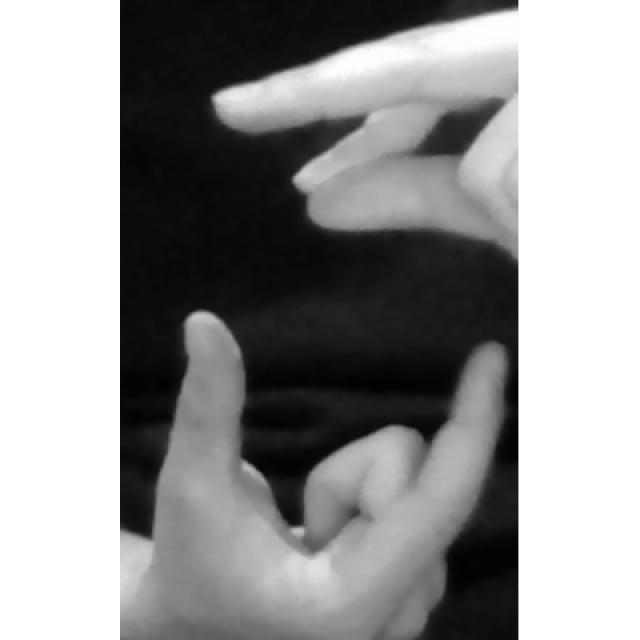U--: (151, 9, 511, 640)
